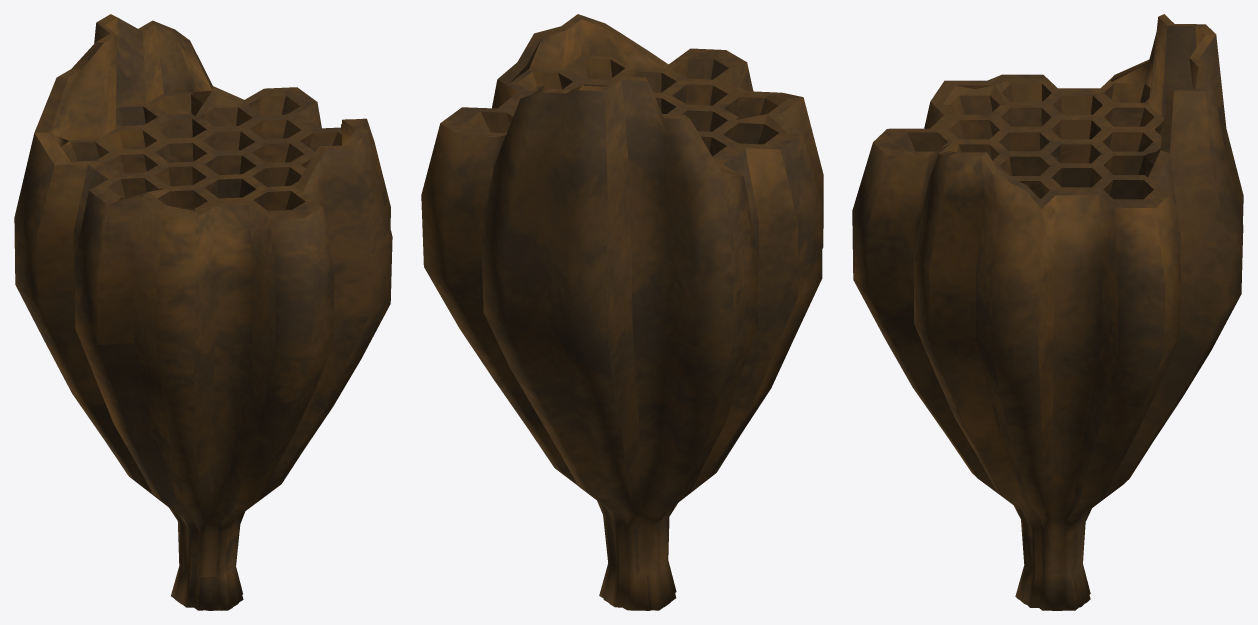
The model's file is honeycomb3.fbx.
The picture shows the model from 3 angles, left to right: view 1: azimuth 30°, elevation 25°; view 2: azimuth 150°, elevation 25°; view 3: azimuth 270°, elevation 25°; orthographic projection. The views are drawn at different scales.
Visible parts, largest first — view 1: Cube.002; view 2: Cube.002; view 3: Cube.002.
Boxes of the visible parts, x1,y1,x2,y2 form: Cube.002: (14, 14, 392, 610); Cube.002: (421, 14, 823, 610); Cube.002: (852, 14, 1243, 610).
Bounding box in the file's own units: 1429 × 2476 × 1592.
